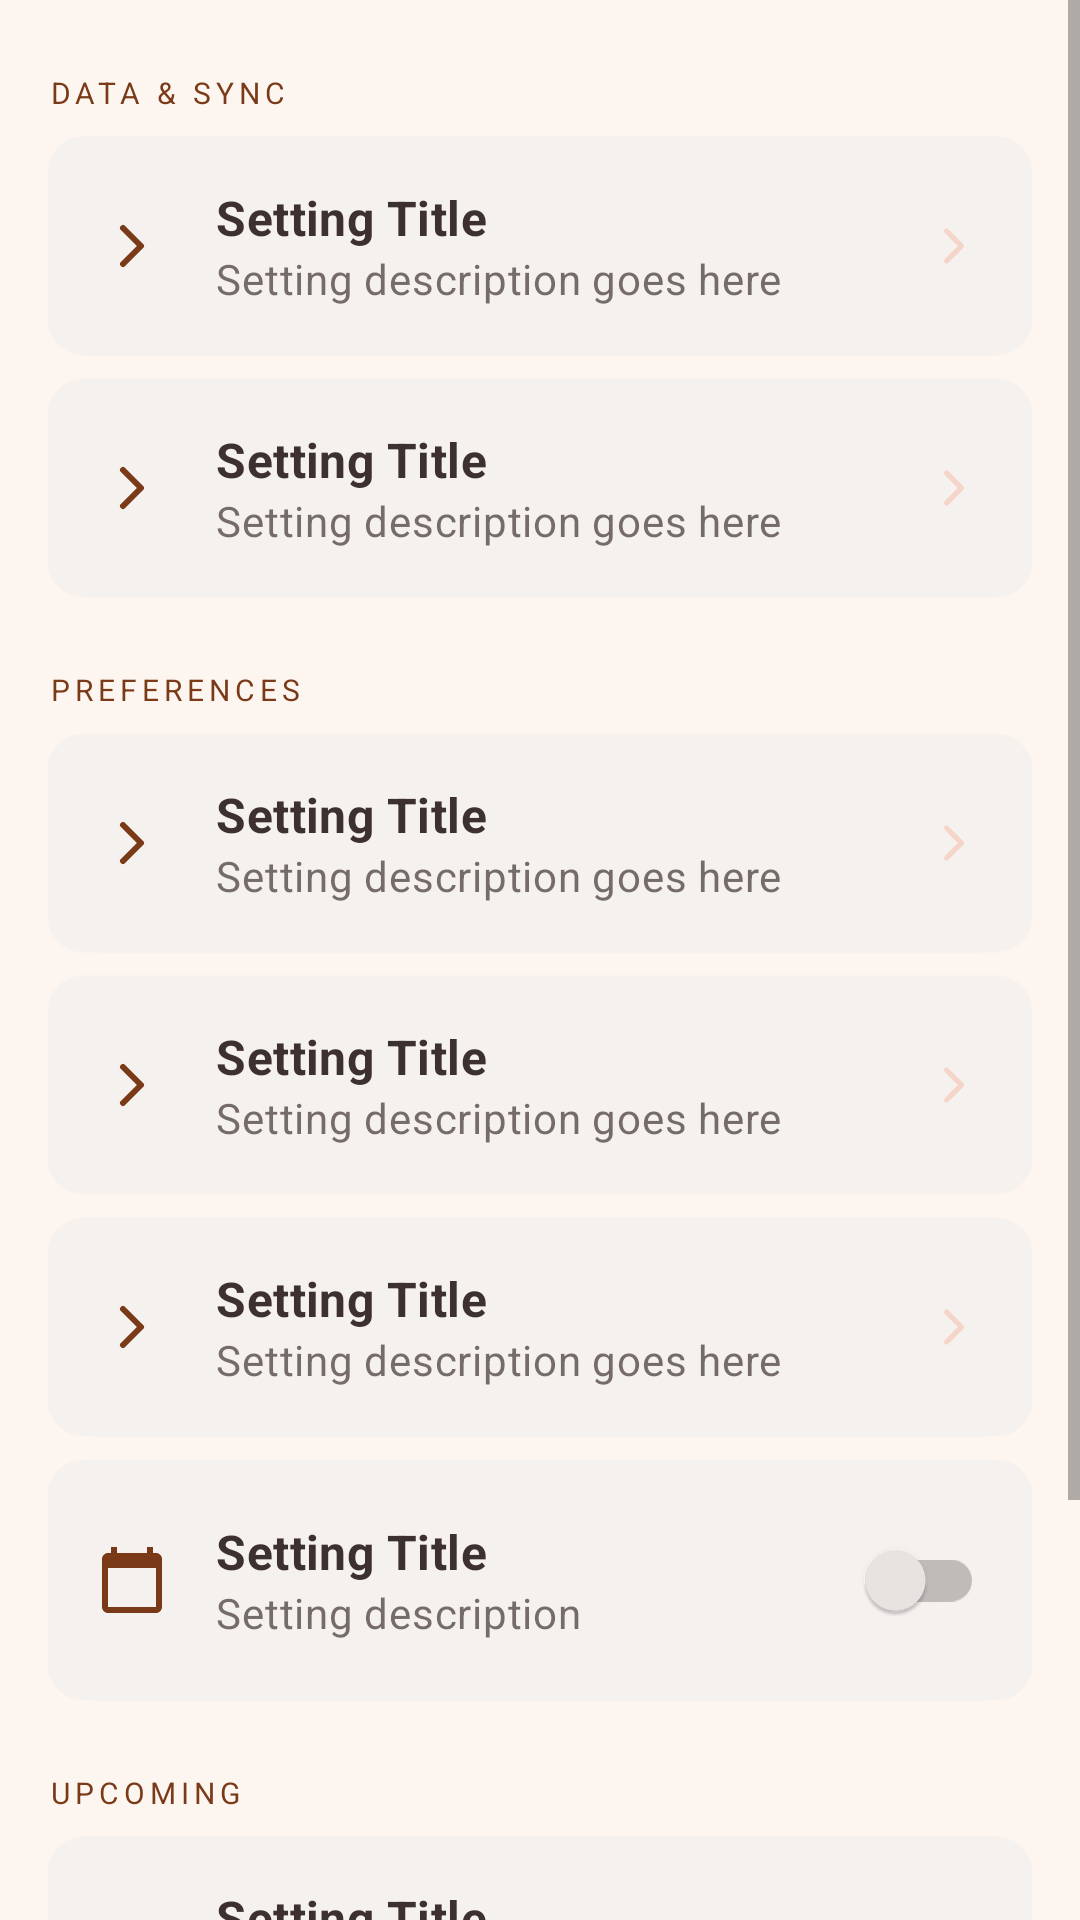

Where to tap for icons on this 1080×1920 app screen, as [x,y]:
daily: [132,1580]
